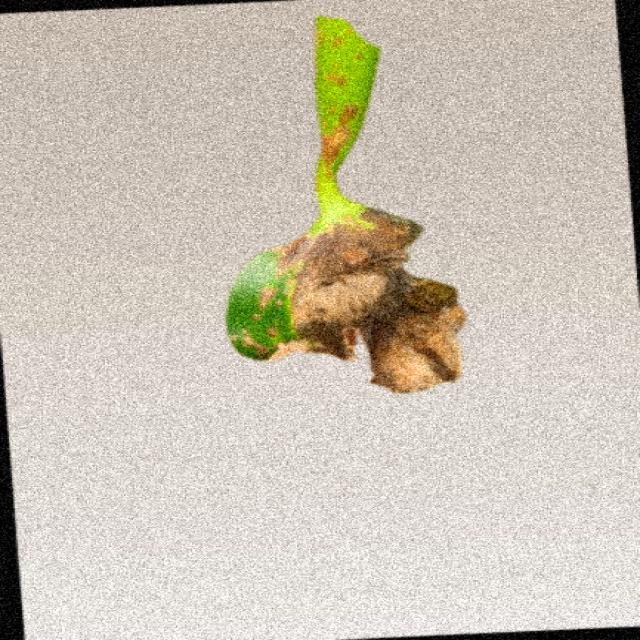daun berpenyakit karat: (229, 17, 465, 394)
